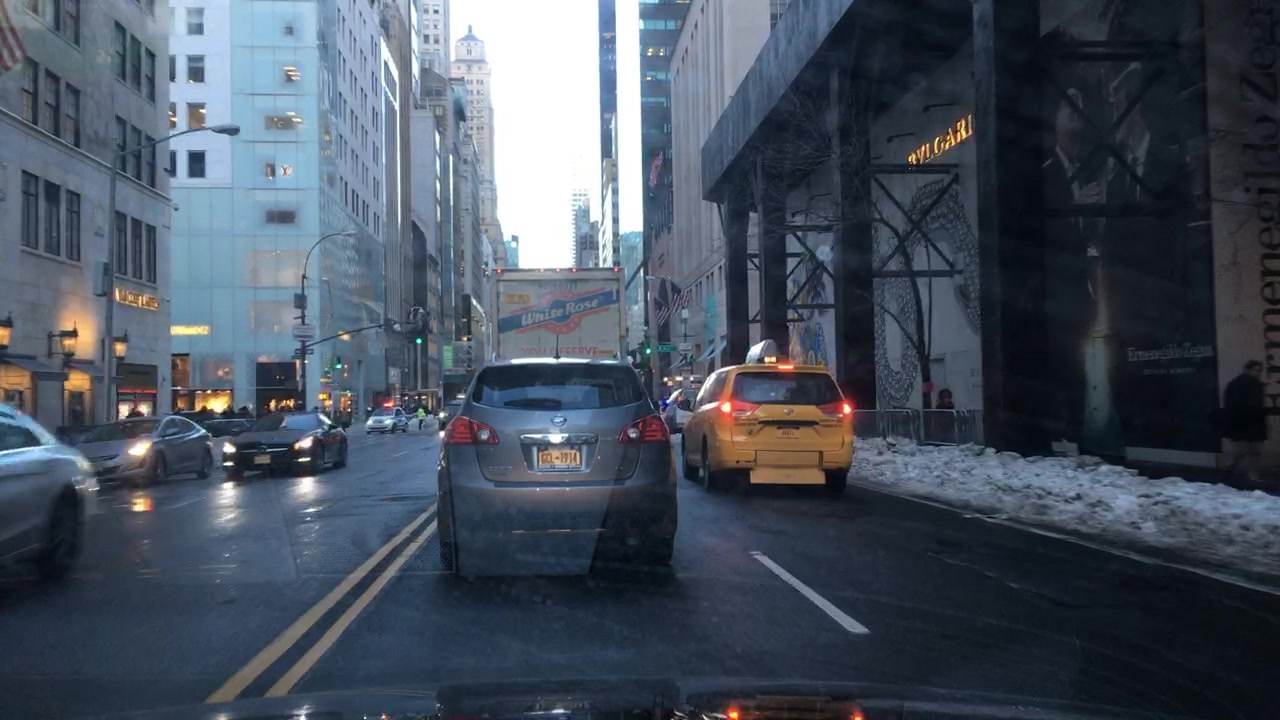licence: (535, 440, 586, 474)
